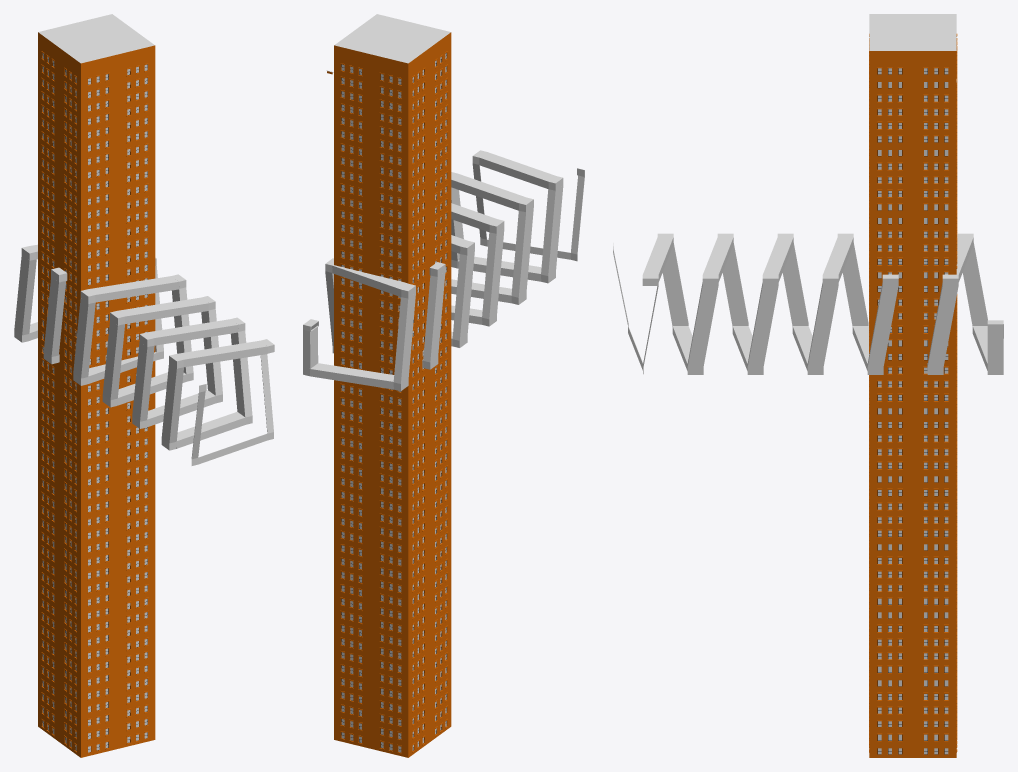
File: Building.fbx
The picture shows the model from 3 angles, left to right: view 1: azimuth 30°, elevation 25°; view 2: azimuth 150°, elevation 25°; view 3: azimuth 270°, elevation 25°; orthographic projection.
Visible parts, largest first — view 1: Wall.002, Wall.003, Wall.004, Stair.016, Stair.004, Stair.012, Stair.008, Stair.025, Stair.013, Stair.005, Stair.017, Stair.021 (+11 smaller); view 2: Wall.001, Wall.003, Wall.004, Stair.021, Stair.009, Stair.017, Stair.025, Stair.013, Stair.005, Stair.004, Stair.008, Stair.026 (+7 smaller); view 3: Wall, Wall.004, Stair.007, Stair.015, Stair.011, Stair.019, Stair.023, Wall.001, Stair.005, Stair.013, Stair.017, Stair.009 (+10 smaller).
Part boxes in pixels (x1,y1,x2,y2): Wall.002: [81, 45, 155, 757]; Wall.003: [38, 32, 80, 757]; Wall.004: [38, 14, 154, 63]; Stair.016: [80, 276, 179, 303]; Stair.004: [169, 340, 267, 368]; Stair.012: [110, 297, 208, 325]; Stair.008: [139, 319, 238, 346]; Stair.025: [14, 255, 36, 342]; Stair.013: [102, 320, 124, 407]; Stair.005: [161, 363, 183, 450]; Stair.017: [73, 298, 95, 385]; Stair.021: [43, 277, 66, 364]; Wall.001: [334, 45, 408, 757]; Wall.003: [408, 32, 451, 757]; Wall.004: [334, 14, 450, 63]; Stair.021: [423, 271, 445, 369]; Stair.009: [511, 207, 533, 304]; Stair.017: [452, 250, 474, 347]; Stair.025: [393, 293, 415, 391]; Stair.013: [482, 228, 504, 326]; Stair.005: [541, 185, 563, 283]; Stair.004: [479, 152, 563, 190]; Stair.008: [451, 173, 533, 211]; Stair.026: [303, 363, 394, 389]; Wall: [869, 51, 956, 757]; Wall.004: [869, 14, 956, 50]; Stair.007: [687, 275, 718, 367]; Stair.015: [807, 275, 838, 367]; Stair.011: [747, 275, 778, 367]; Stair.019: [867, 275, 898, 367]; Stair.023: [927, 275, 958, 367]; Wall.001: [956, 34, 957, 752]; Stair.005: [662, 243, 688, 326]; Stair.013: [782, 243, 808, 325]; Stair.017: [842, 243, 868, 325]; Stair.009: [722, 243, 748, 325].
Bounding box in the file's own units: 23.51 × 172 × 86.37.
